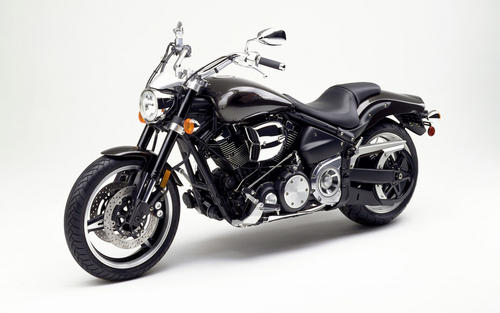motor: (69, 35, 434, 263)
